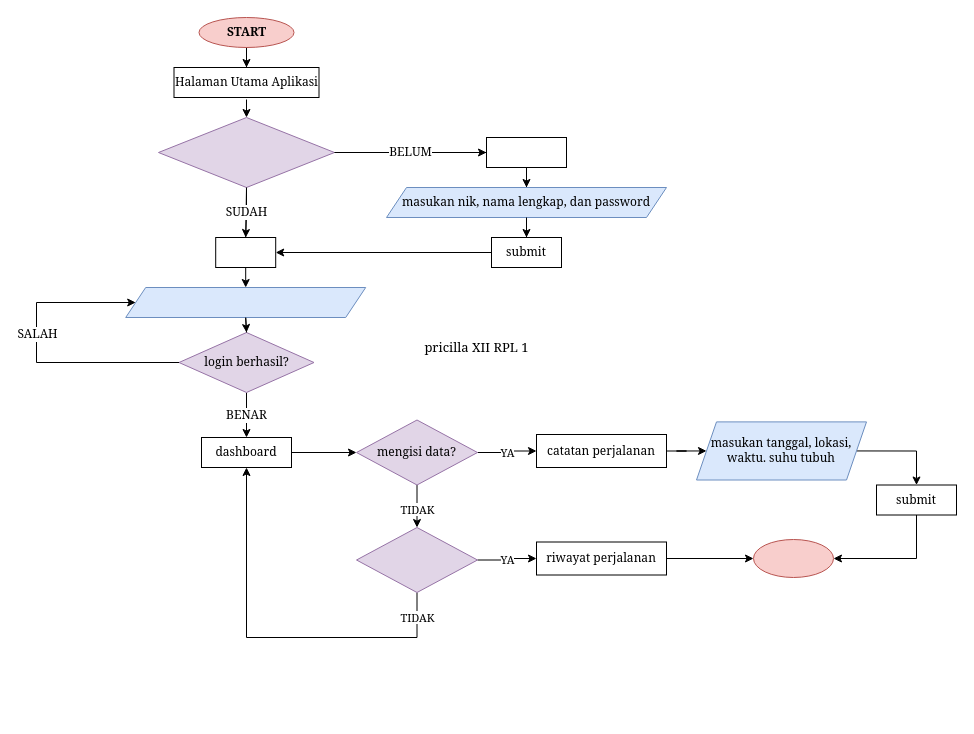
The diagram is 974 pixels wide and 734 high, and some of its shapes have lost their labels. The centre of each missing label's shape, as x and y in pixels:
"END" belongs at (x=793, y=558).
"login" belongs at (x=245, y=252).
"masukan nik dan nama lengkap" belongs at (x=245, y=302).
"melihat data?" belongs at (x=417, y=559).
"register" belongs at (x=526, y=152).
"Sudah memiliki akun?" belongs at (x=246, y=152).
